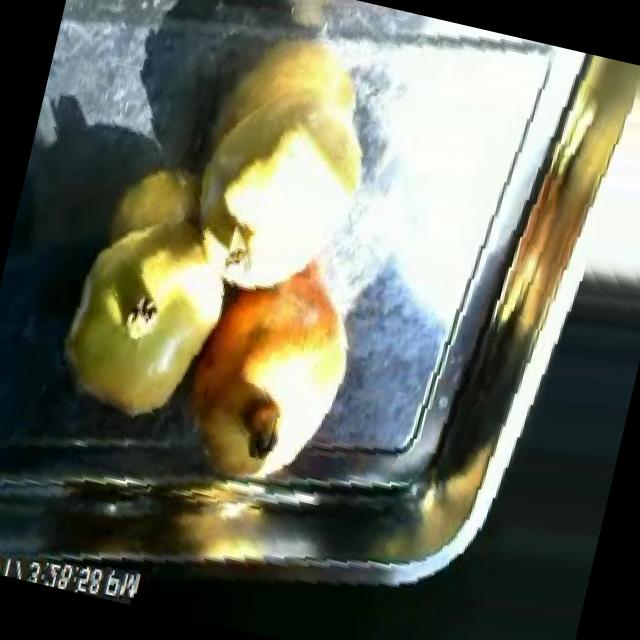fruit: (153, 224, 386, 516), (152, 63, 388, 324), (29, 186, 256, 453)
